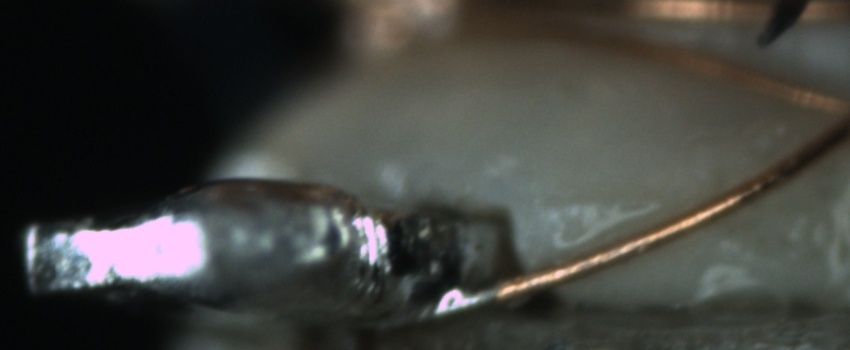DL: (531, 174, 674, 238)
